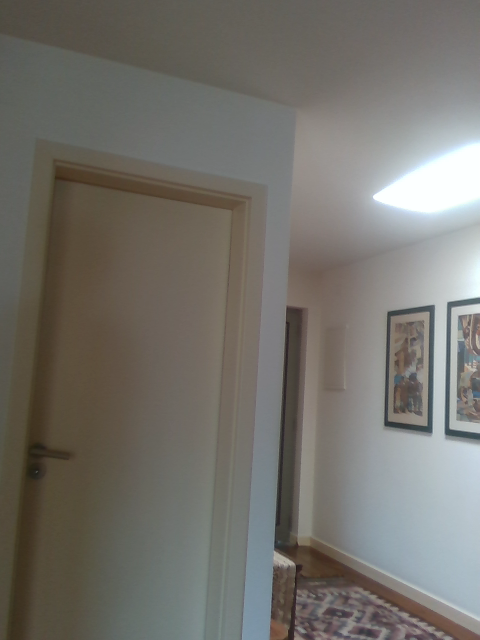closed: (3, 138, 264, 639)
